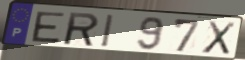7: (173, 18, 202, 53)
9: (137, 16, 166, 52)
E: (31, 11, 67, 45)
I: (100, 13, 116, 49)
R: (63, 11, 101, 48)
X: (200, 20, 238, 56)
